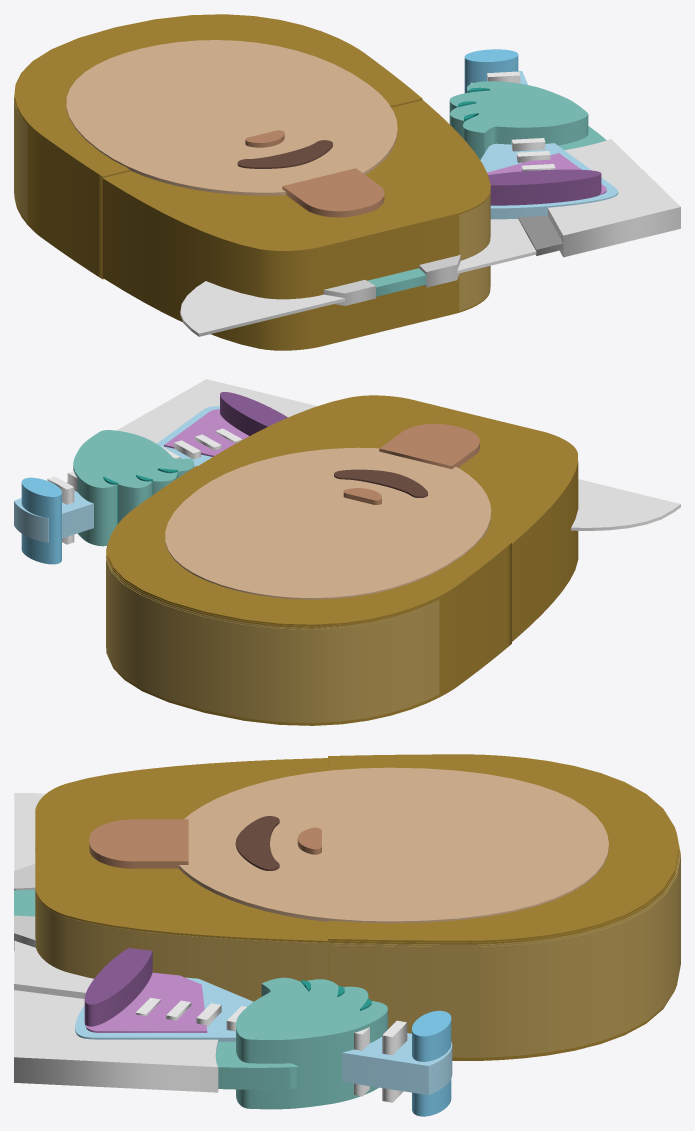
File: emoji_u1f469_1f3fc_200d_1f52c.glb
The picture shows the model from 3 angles, top to bottom: view 1: azimuth 30°, elevation 25°; view 2: azimuth 150°, elevation 25°; view 3: azimuth 270°, elevation 25°; orthographic projection. The views are drawn at different scales.
Parts seen in each view (by area): view 1: emoji_u1f469_1f3fc_200d_1f52c; view 2: emoji_u1f469_1f3fc_200d_1f52c; view 3: emoji_u1f469_1f3fc_200d_1f52c.
Boxes of the visible parts, bbox=[...] form: emoji_u1f469_1f3fc_200d_1f52c: bbox=[14, 14, 680, 350]; emoji_u1f469_1f3fc_200d_1f52c: bbox=[14, 379, 680, 725]; emoji_u1f469_1f3fc_200d_1f52c: bbox=[14, 754, 680, 1116].
Bounding box in the file's own units: 0.0336 × 0.0074 × 0.0332.
